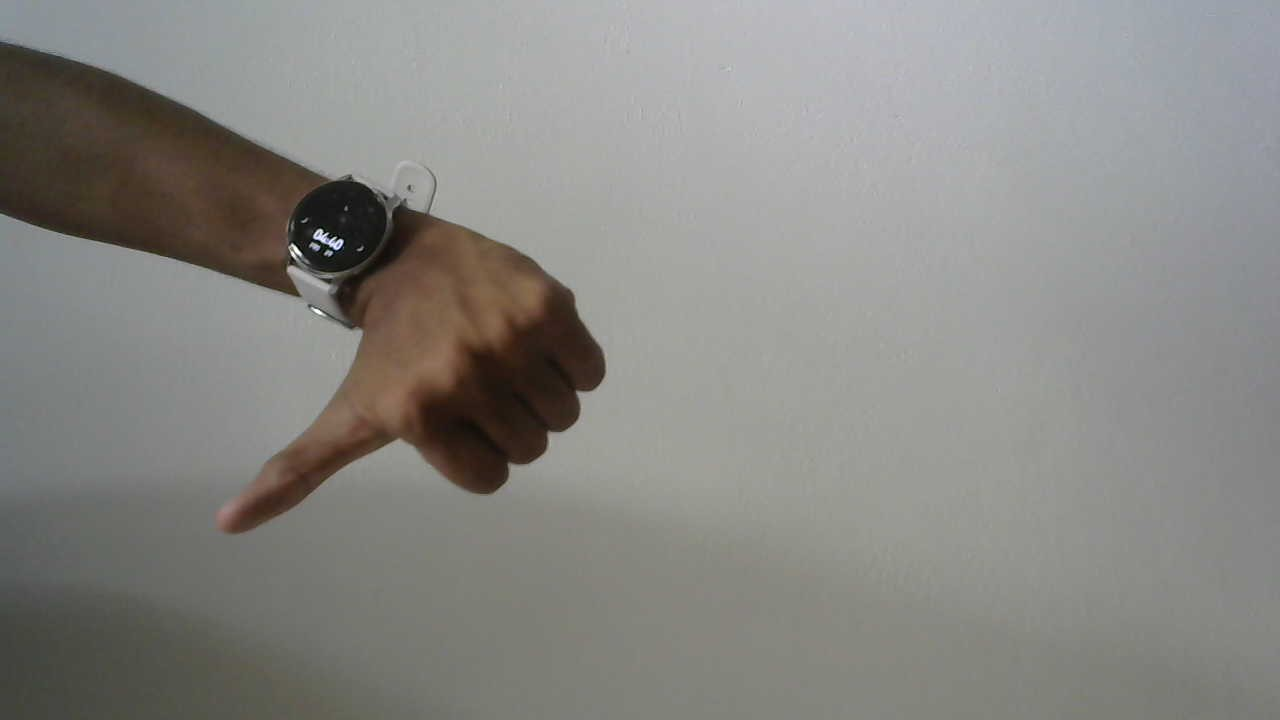thumbsdown: (202, 104, 622, 597)
